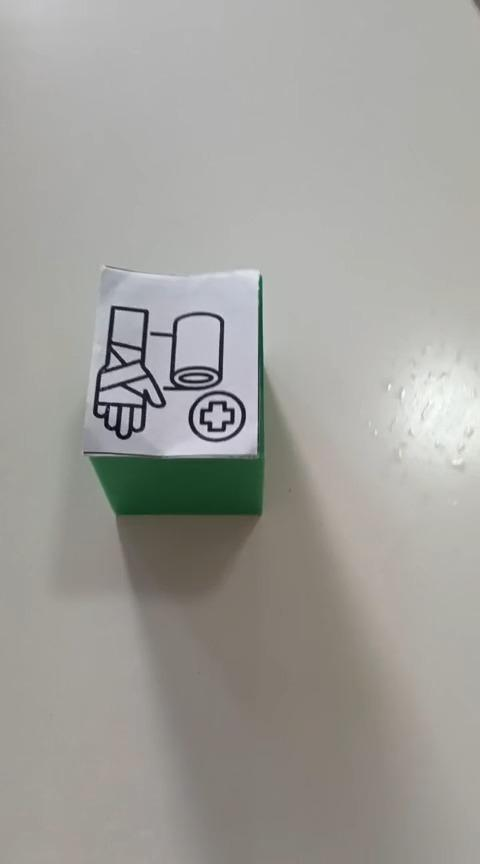Bandages: (81, 263, 264, 516)
